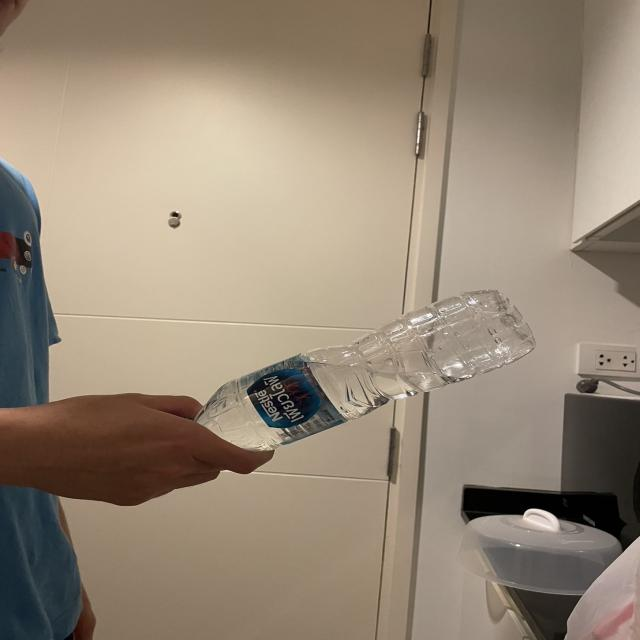bottle: (193, 288, 538, 453)
